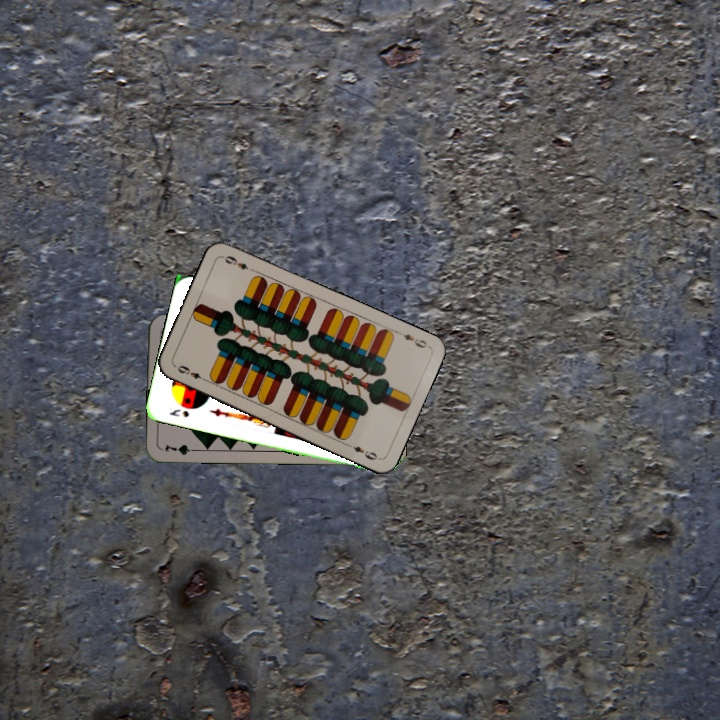E9: (393, 327, 431, 351), (171, 361, 210, 384)
G7: (161, 440, 201, 457)
SK: (165, 405, 192, 420)
